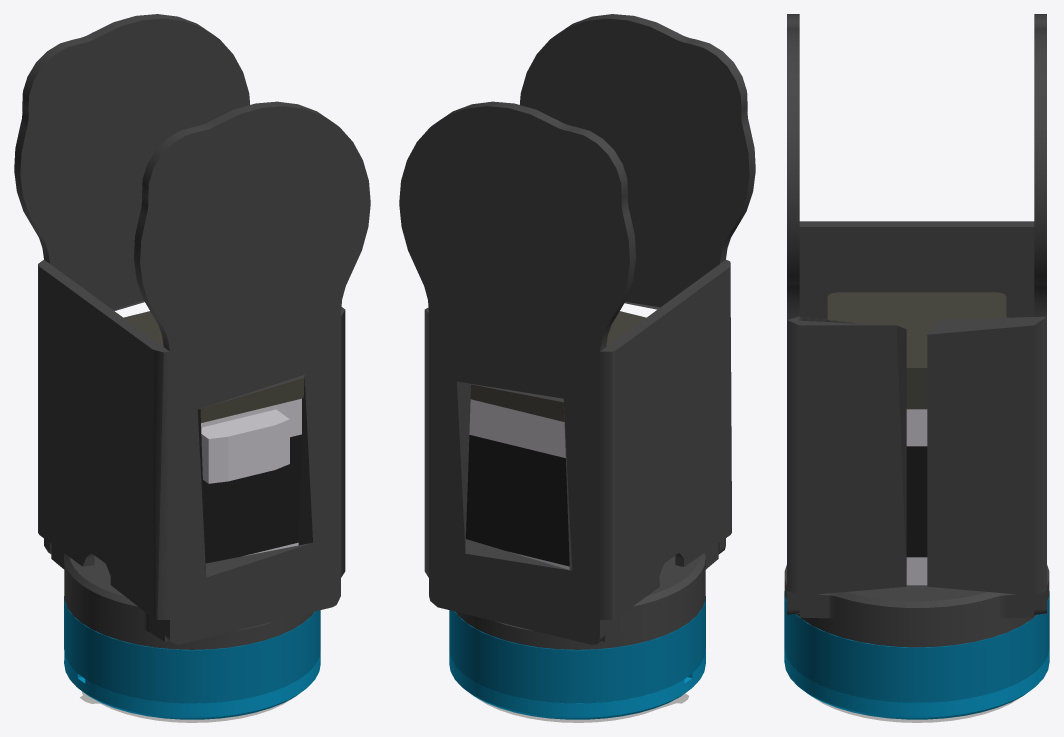
Rendered from r_elbow_link.dae.
The picture shows the model from 3 angles, left to right: view 1: azimuth 30°, elevation 25°; view 2: azimuth 150°, elevation 25°; view 3: azimuth 270°, elevation 25°; orthographic projection. The views are drawn at different scales.
Parts seen in each view (by area): view 1: FBXASC227FBXASC130FBXASC189FBXASC227FBXASC131FBXASC170FBXASC (×6); view 2: FBXASC227FBXASC130FBXASC189FBXASC227FBXASC131FBXASC170FBXASC (×6); view 3: FBXASC227FBXASC130FBXASC189FBXASC227FBXASC131FBXASC170FBXASC (×6).
Part boxes in pixels (x1,y1,x2,y2): FBXASC227FBXASC130FBXASC189FBXASC227FBXASC131FBXASC170FBXASC (×6): [14, 14, 370, 722]; FBXASC227FBXASC130FBXASC189FBXASC227FBXASC131FBXASC170FBXASC (×6): [399, 14, 755, 722]; FBXASC227FBXASC130FBXASC189FBXASC227FBXASC131FBXASC170FBXASC (×6): [784, 14, 1049, 722].
Size of the model in its own units: 0.054 by 0.052 by 0.137.
